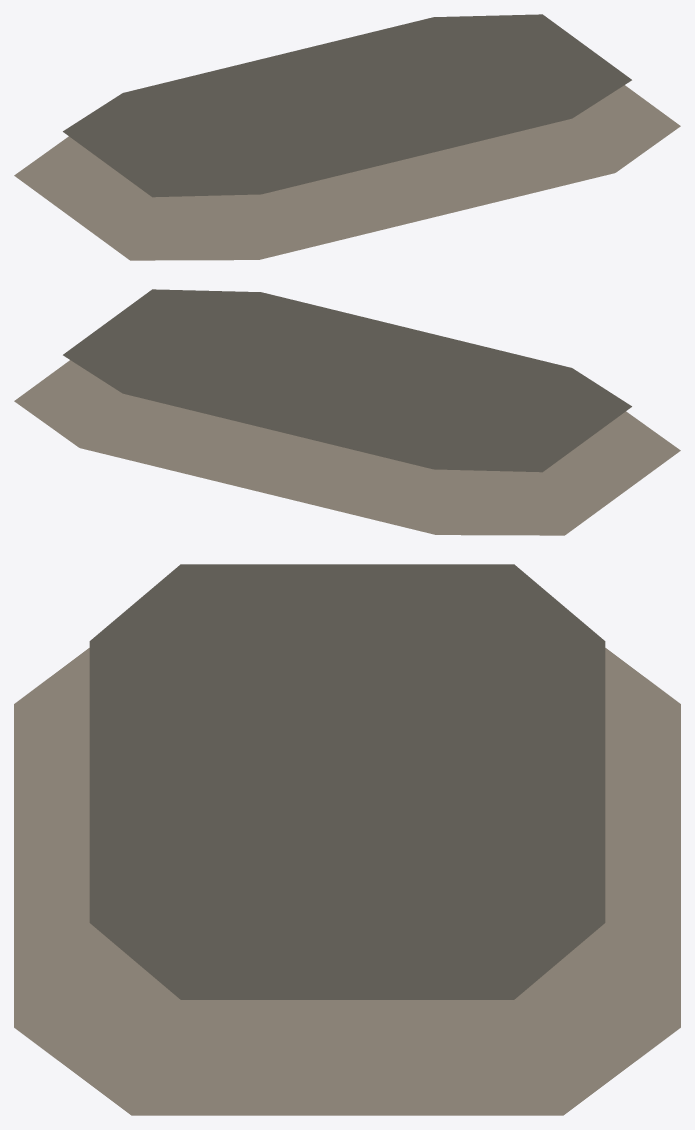
File: 1444-Buildings-shell-pieces-roof-polygon-plan-emitPolygonRoof-12-triangles-39-00-x-3-.glb
3 views of the same model, one above another, from view 1: azimuth 30°, elevation 25°; view 2: azimuth 150°, elevation 25°; view 3: azimuth 270°, elevation 25° (orthographic). The views are drawn at different scales.
Parts seen in each view (by area): view 1: emitPolygonRoof; view 2: emitPolygonRoof; view 3: emitPolygonRoof.
Part boxes in pixels (<box>): emitPolygonRoof: <box>14,14,680,260</box>; emitPolygonRoof: <box>14,289,680,535</box>; emitPolygonRoof: <box>14,564,680,1115</box>.
Size of the model in its own units: 39 by 3.05 by 22.
